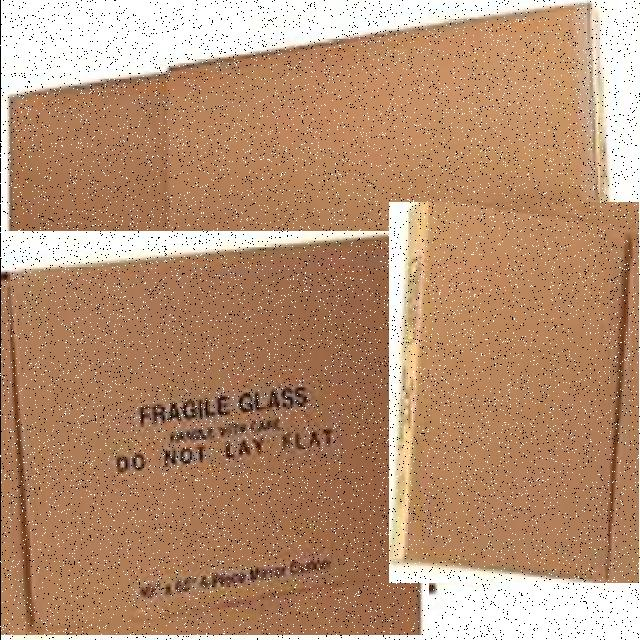normal: (0, 231, 428, 635), (388, 202, 638, 583)
